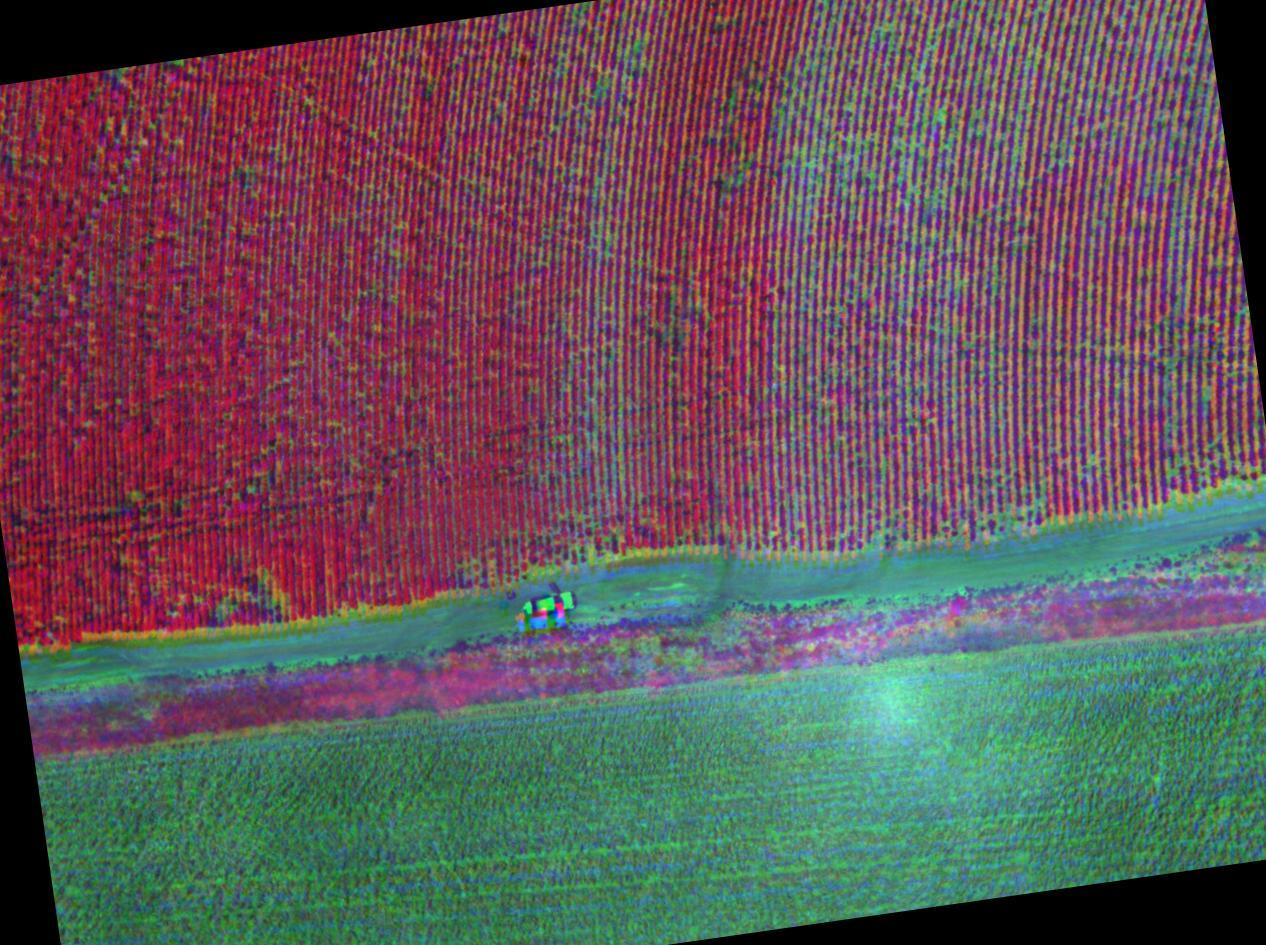dc: (904, 77, 998, 191), (807, 497, 1038, 542), (780, 116, 872, 199), (1052, 56, 1126, 132), (814, 36, 890, 107)
